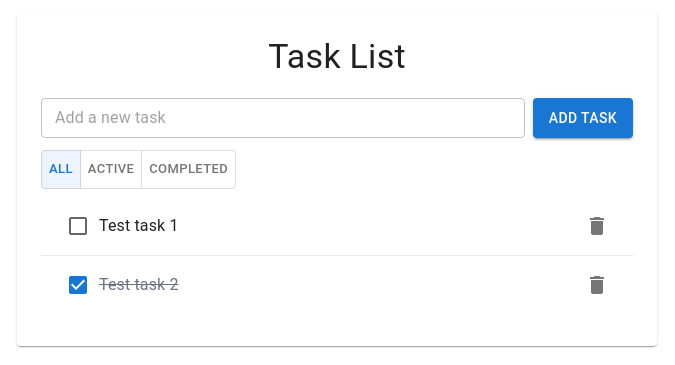
it: TaskList component › edits a task title
Click the text "Test task 1" at (139, 225), box x1=99 y1=216 x2=179 y2=235
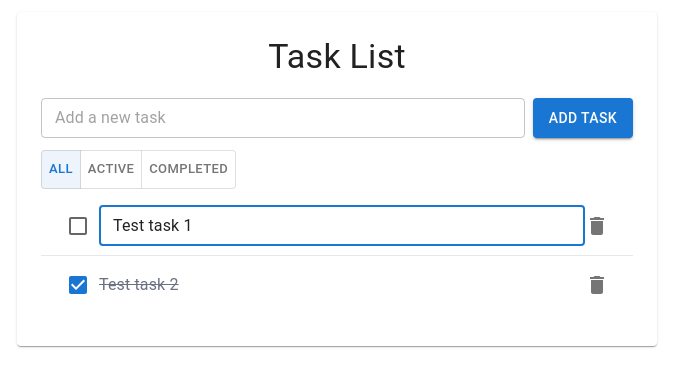
Replace the text in the text box showing "Test task 1" with "Test task 1 updated" at (342, 226), box x1=113 y1=214 x2=571 y2=237
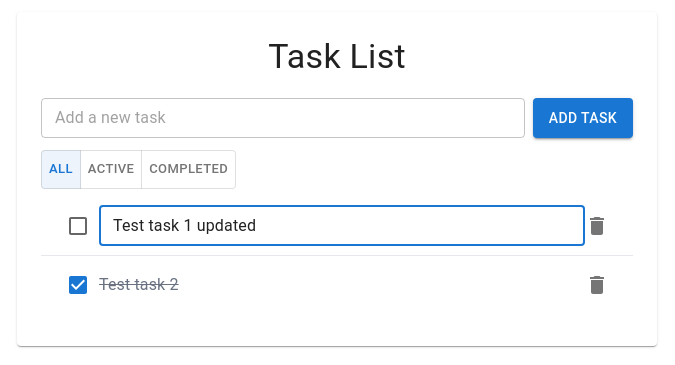
Leave the text box showing "Test task 1", box x1=113 y1=214 x2=571 y2=237
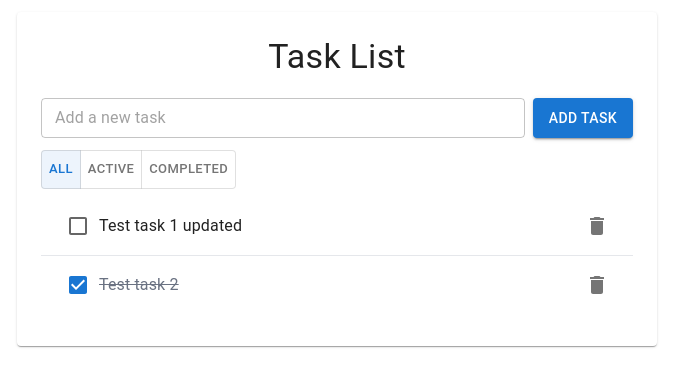
Now the text "Test task 1 updated" is shown, box x1=99 y1=216 x2=242 y2=235
